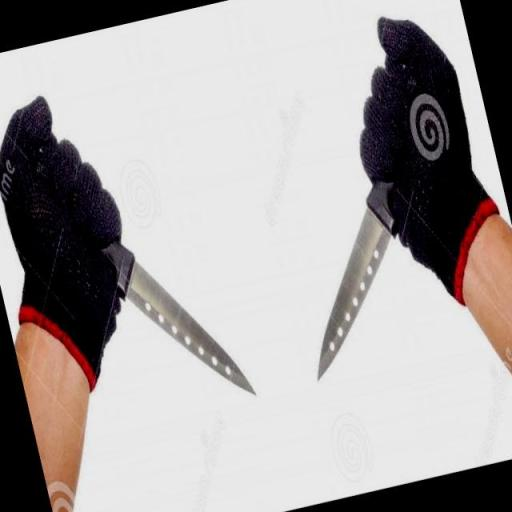knife: (39, 110, 262, 434)
